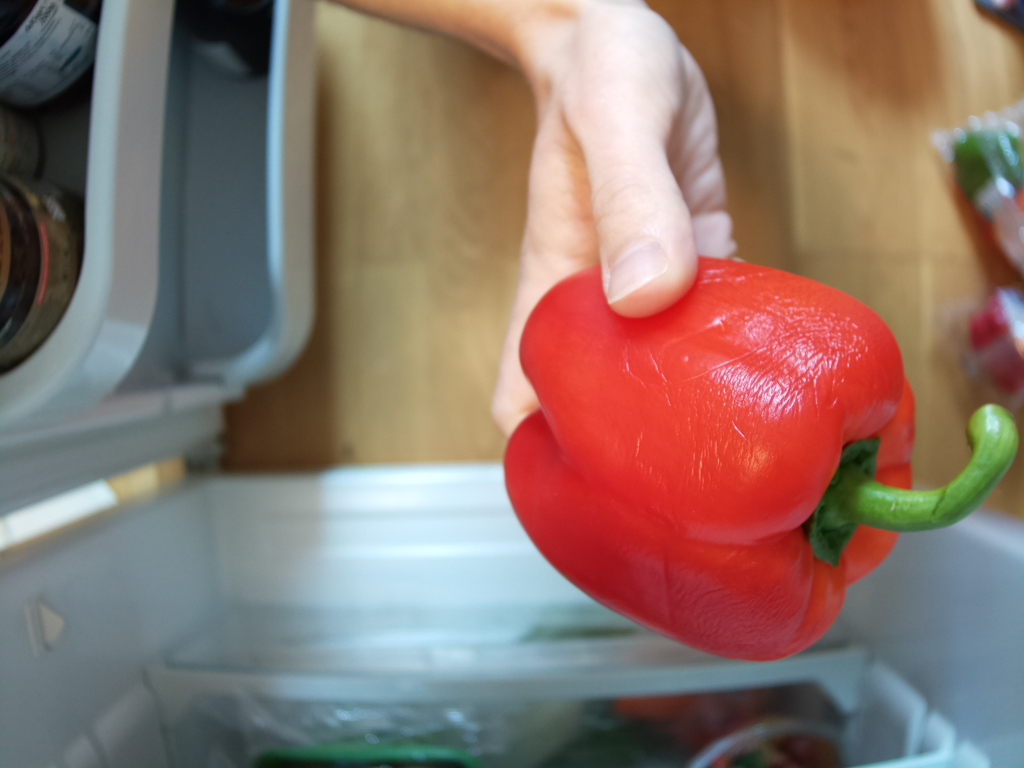pepper-bad: (494, 249, 1024, 674)
